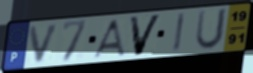7: (61, 18, 90, 64)
A: (90, 18, 127, 60)
I: (171, 11, 187, 54)
U: (193, 6, 230, 52)
V: (127, 13, 164, 58), (27, 22, 62, 65)
